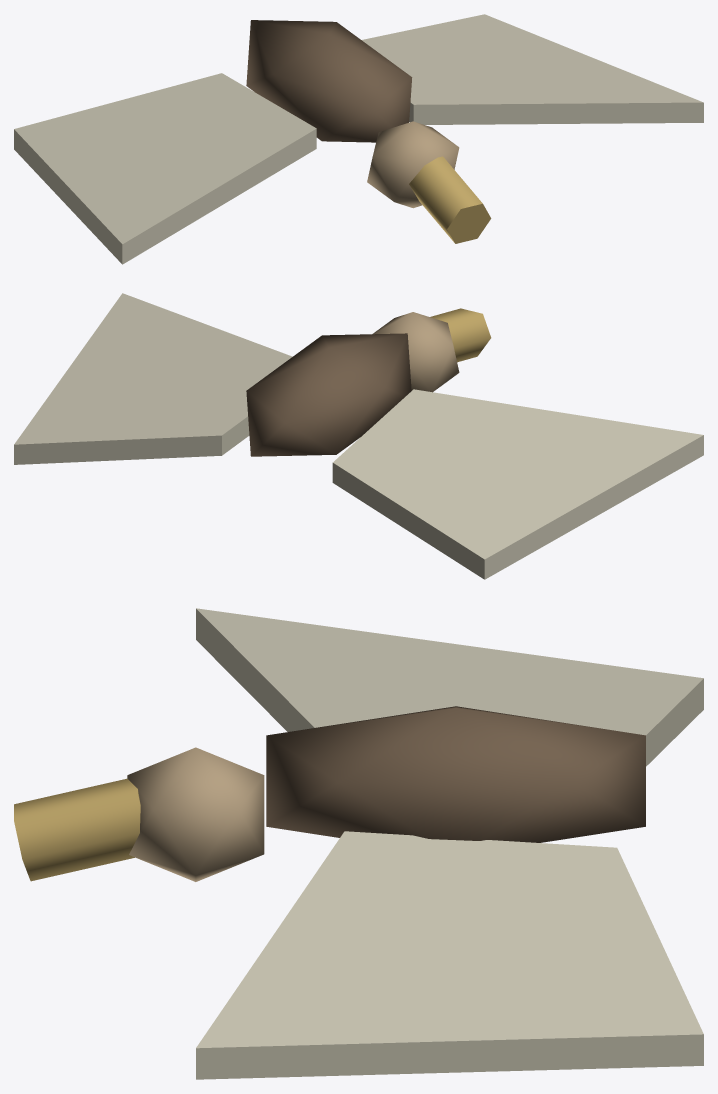
Rendered from spread-portable-corpse-avian.fbx.
3 renders of one model, top to bottom at view 1: azimuth 30°, elevation 25°; view 2: azimuth 150°, elevation 25°; view 3: azimuth 270°, elevation 25°, orthographic. The views are drawn at different scales.
Parts seen in each view (by area): view 1: spread-portable-corpse-avian__Geometry; view 2: spread-portable-corpse-avian__Geometry; view 3: spread-portable-corpse-avian__Geometry.
Part boxes in pixels (x1,y1,x2,y2): spread-portable-corpse-avian__Geometry: (14, 14, 703, 264); spread-portable-corpse-avian__Geometry: (14, 293, 703, 579); spread-portable-corpse-avian__Geometry: (14, 608, 703, 1079).
Size of the model in its own units: 0.84 by 0.16 by 0.5567.
